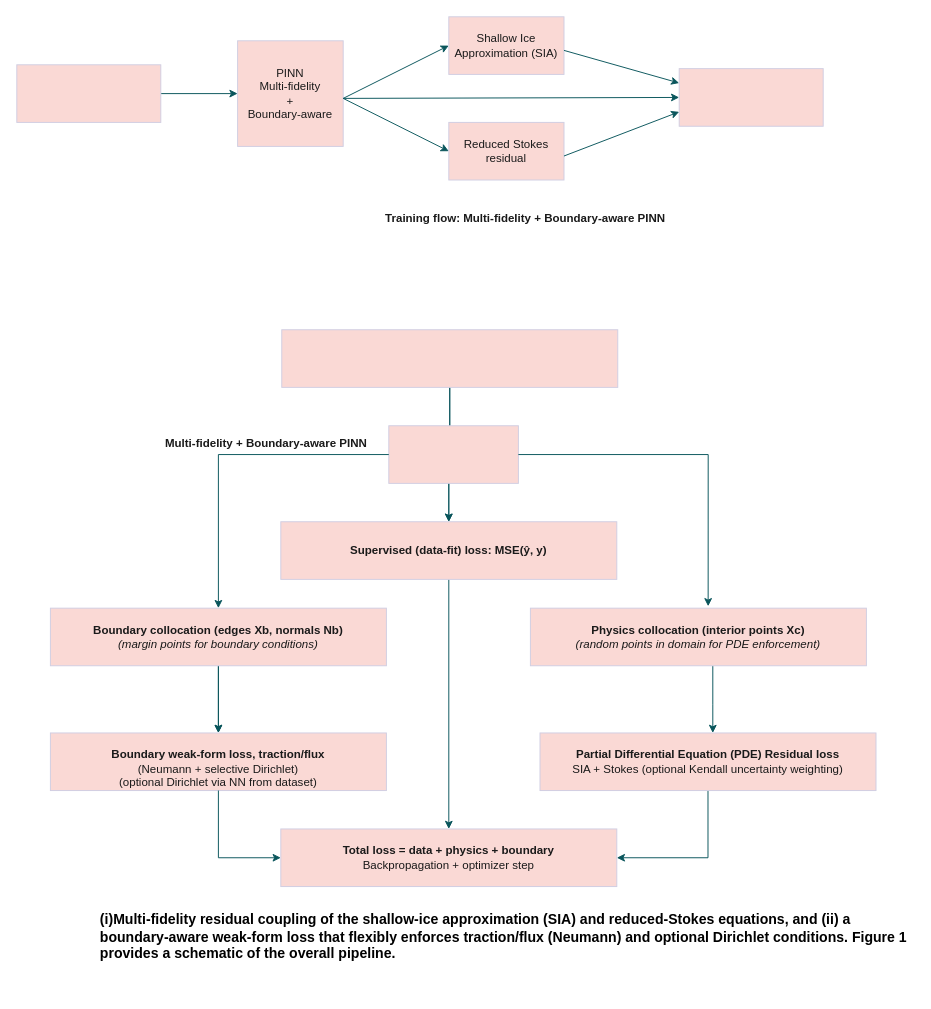
Image size: 931x1009. Some labels were removed from this diagram. The shapes that lost their labels are listed below. From the top down, each one's box as (x1, y1, x2, y2) in pixels, then its label:
(16, 64, 161, 122): Surface features ( surf_x, surf_y, vx, vy, elv, dhdt, smb )
(678, 68, 823, 126): Predicted Bed Topography
(281, 329, 618, 387): Observed dataset (X, y) (Surface features X, radar bed labels y)
(388, 425, 518, 483): Physics Informed Neural Network ( PINN ) Model
